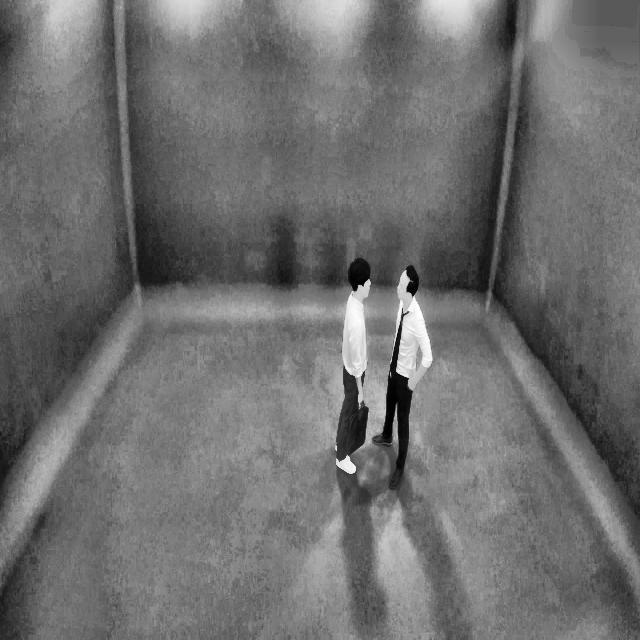assult: (330, 237, 437, 507)
